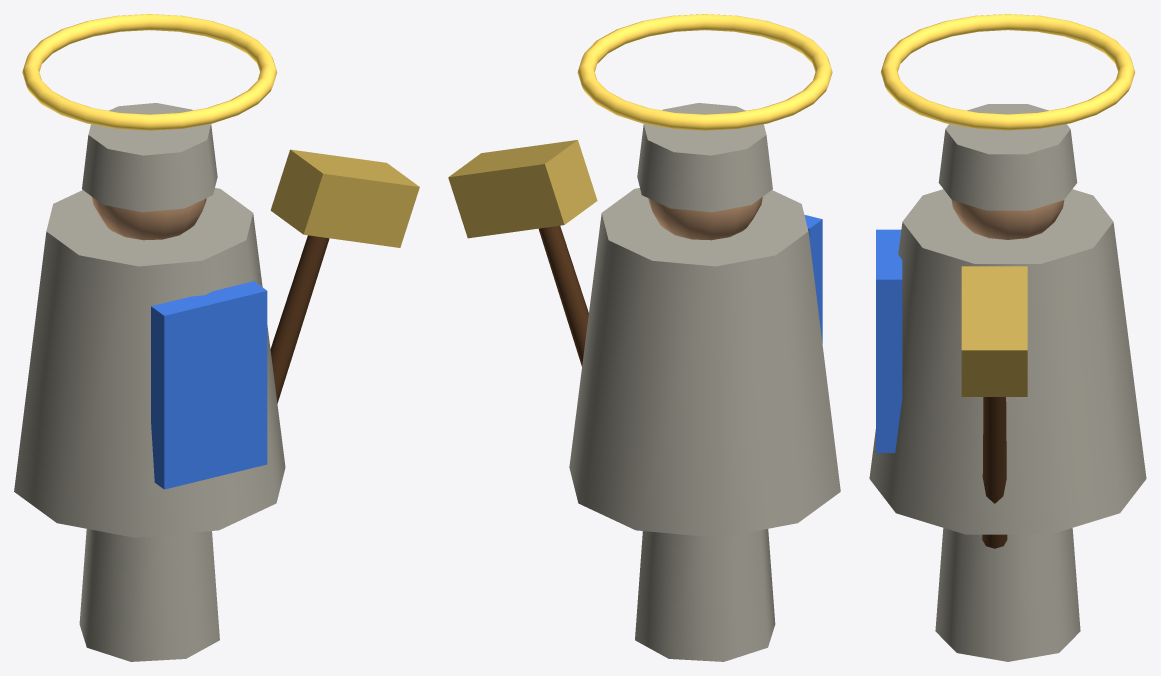
The model's file is paladin.glb.
3 renders of one model, left to right at view 1: azimuth 30°, elevation 25°; view 2: azimuth 150°, elevation 25°; view 3: azimuth 270°, elevation 25°, orthographic.
Parts seen in each view (by area): view 1: paladin-armored-body, paladin-team-tabard, paladin-legs, paladin-helmet, paladin-hammer-head, paladin-hero-halo, paladin-hammer-handle, paladin-head; view 2: paladin-armored-body, paladin-legs, paladin-helmet, paladin-hammer-head, paladin-hero-halo, paladin-head, paladin-hammer-handle, paladin-team-tabard; view 3: paladin-armored-body, paladin-legs, paladin-helmet, paladin-hero-halo, paladin-hammer-head, paladin-team-tabard, paladin-head, paladin-hammer-handle.
Boxes of the visible parts, bbox=[...] form: paladin-armored-body: bbox=[14, 188, 285, 537]; paladin-team-tabard: bbox=[151, 281, 267, 489]; paladin-legs: bbox=[79, 529, 219, 661]; paladin-helmet: bbox=[82, 103, 217, 212]; paladin-hammer-head: bbox=[270, 149, 419, 247]; paladin-hero-halo: bbox=[22, 14, 277, 130]; paladin-hammer-handle: bbox=[270, 235, 329, 403]; paladin-head: bbox=[92, 197, 206, 240]; paladin-armored-body: bbox=[569, 188, 840, 537]; paladin-legs: bbox=[635, 529, 775, 661]; paladin-helmet: bbox=[637, 103, 772, 212]; paladin-hammer-head: bbox=[448, 140, 597, 238]; paladin-hero-halo: bbox=[577, 14, 832, 130]; paladin-head: bbox=[648, 197, 762, 240]; paladin-hammer-handle: bbox=[538, 225, 588, 366]; paladin-team-tabard: bbox=[804, 215, 822, 343]; paladin-armored-body: bbox=[869, 189, 1146, 534]; paladin-legs: bbox=[935, 528, 1080, 661]; paladin-helmet: bbox=[938, 104, 1077, 210]; paladin-hero-halo: bbox=[880, 14, 1135, 130]; paladin-hammer-head: bbox=[961, 266, 1027, 396]; paladin-team-tabard: bbox=[876, 229, 902, 452]; paladin-head: bbox=[951, 200, 1064, 239]; paladin-hammer-handle: bbox=[982, 397, 1007, 548].
Bounding box in the file's own units: 1.26 × 1.9 × 0.84.
